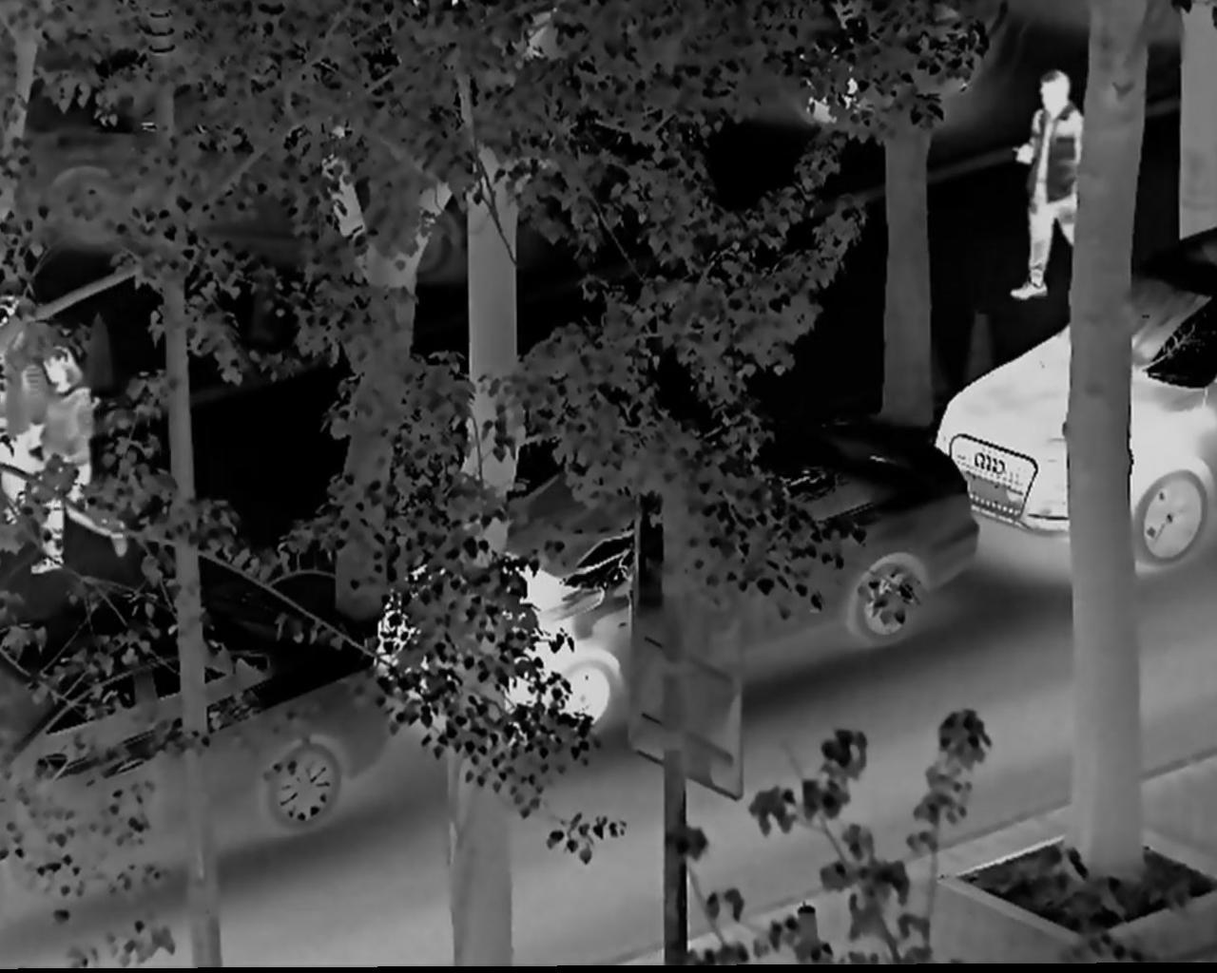person: (22, 344, 132, 580), (1013, 50, 1094, 310)
